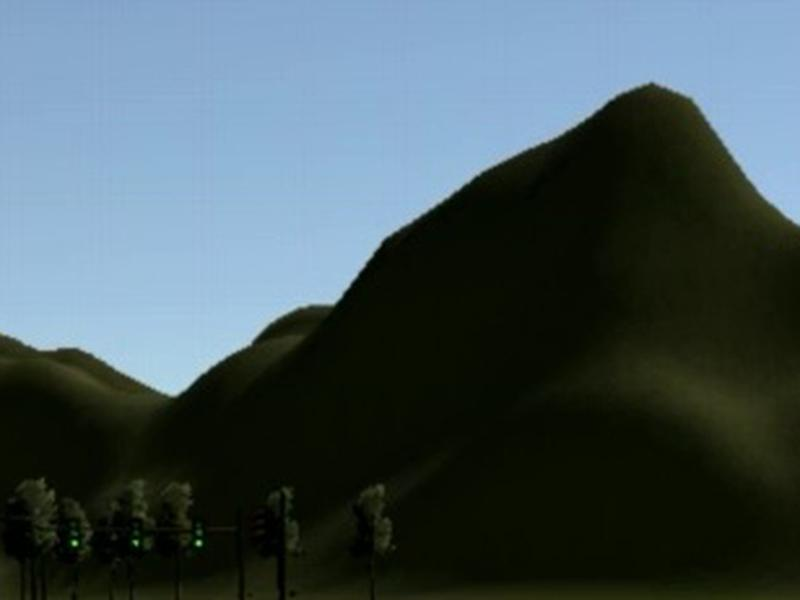Green: (127, 516, 144, 551), (191, 518, 206, 552), (68, 515, 82, 549)
